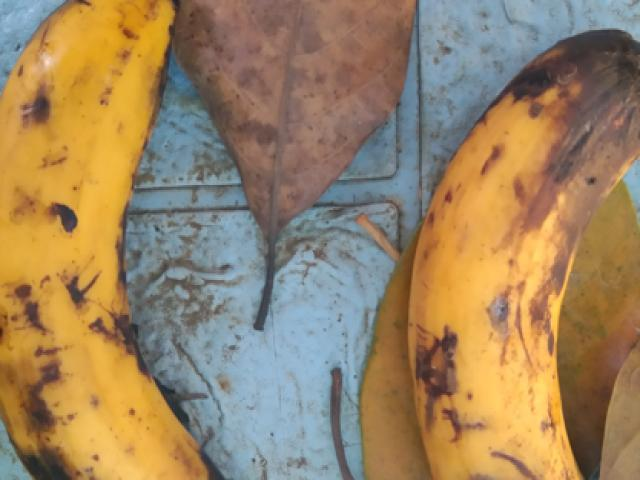overripe: (372, 30, 639, 479), (0, 0, 239, 479)
